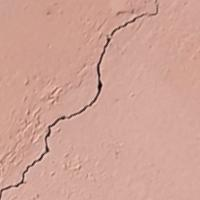crack: (2, 2, 169, 200)
